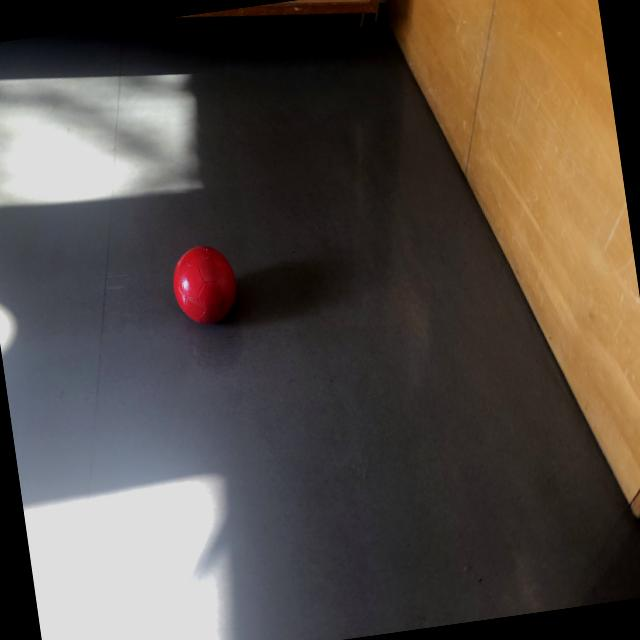red_ball: (168, 240, 243, 330)
